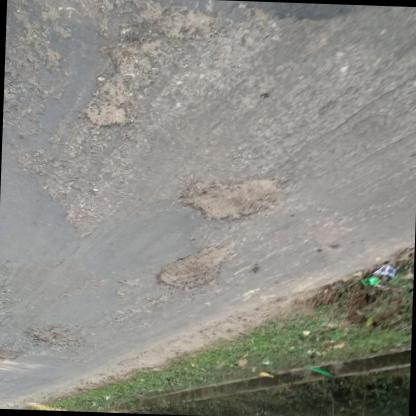pothole: (178, 172, 283, 228), (152, 241, 232, 293), (79, 96, 129, 132), (26, 322, 80, 350), (0, 345, 24, 364)
